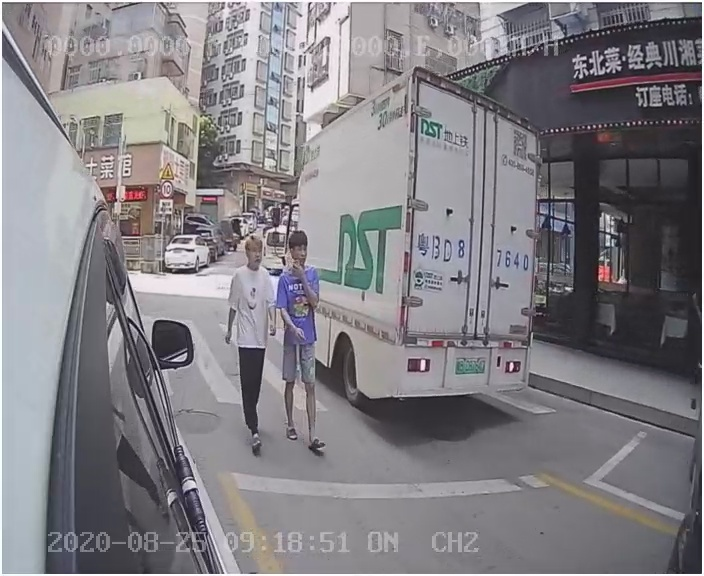person: (268, 231, 345, 461), (215, 233, 283, 461)
